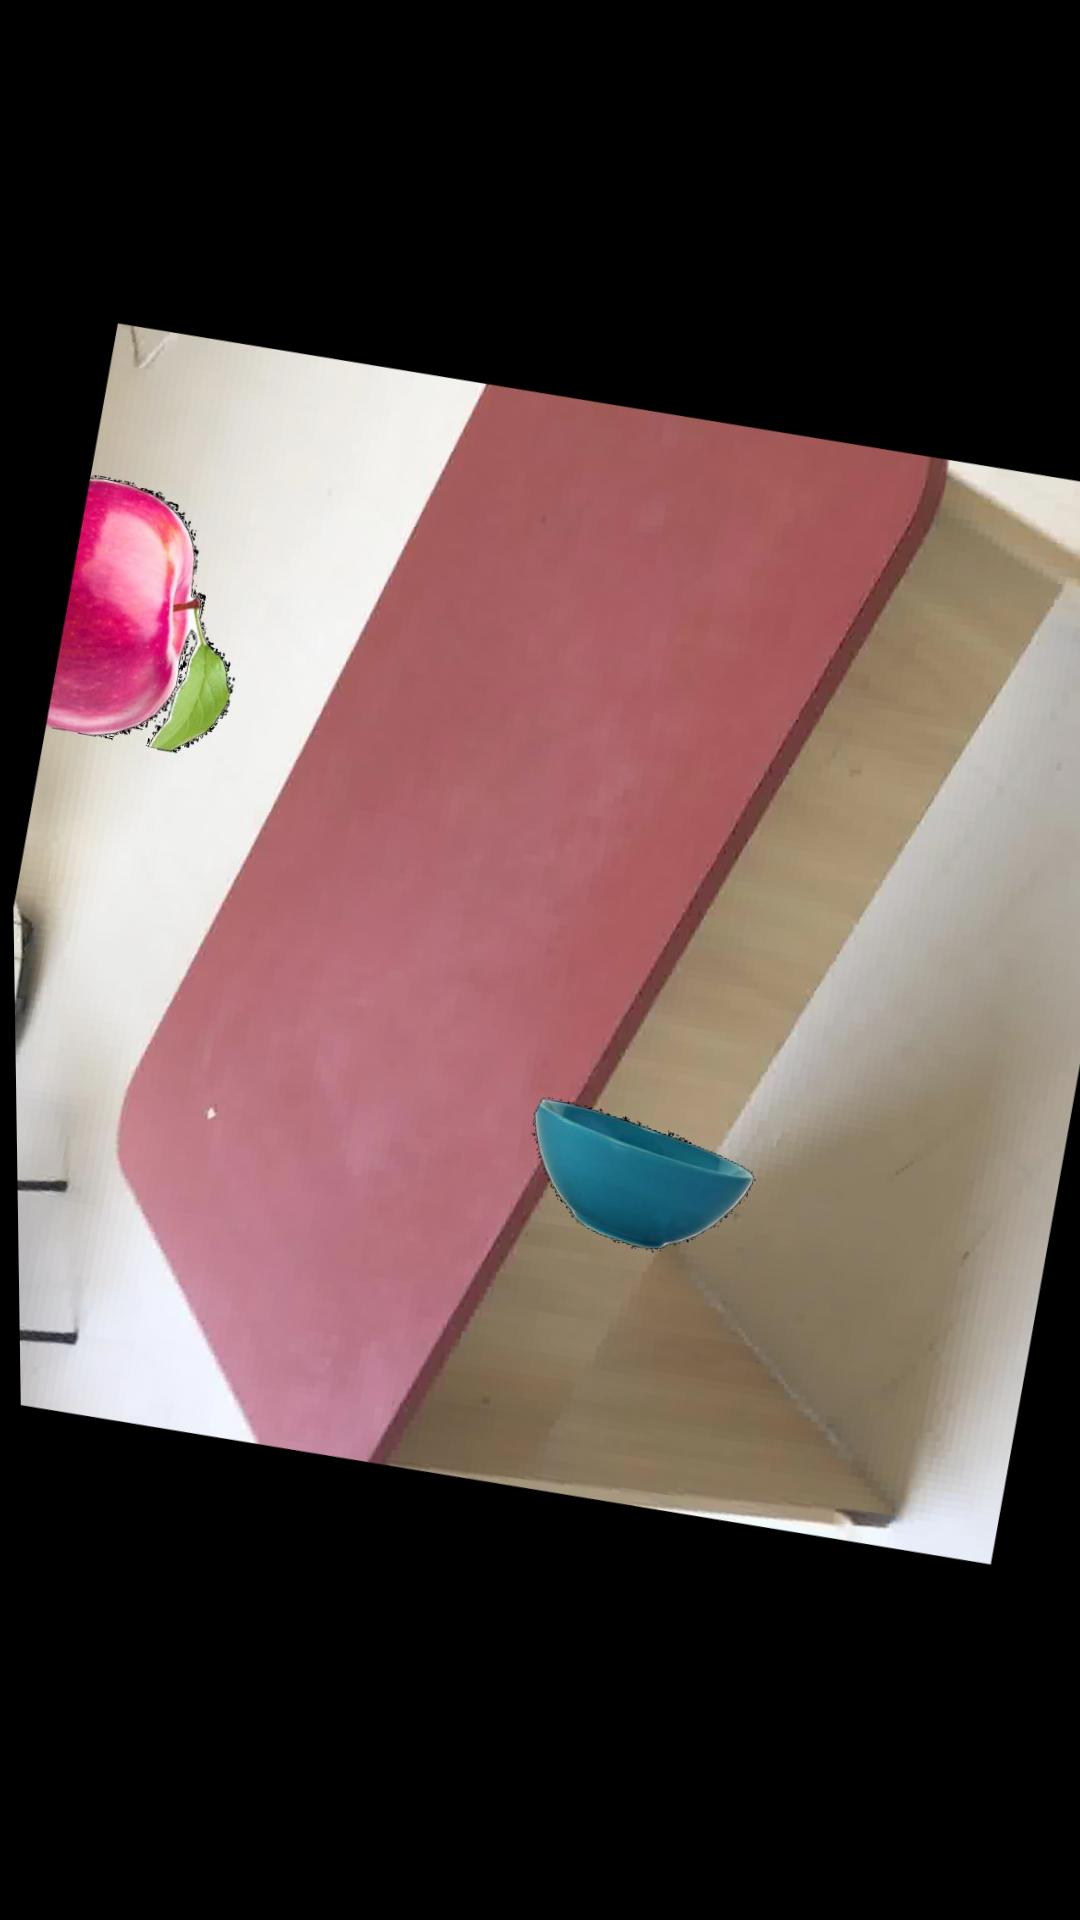apple: (44, 480, 228, 756)
bowl: (527, 1102, 748, 1255)
